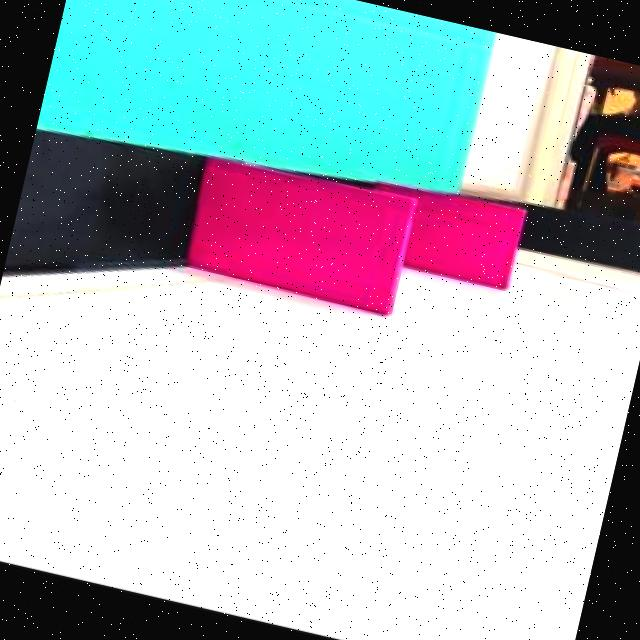xparking: (186, 159, 408, 314), (404, 192, 518, 288)
